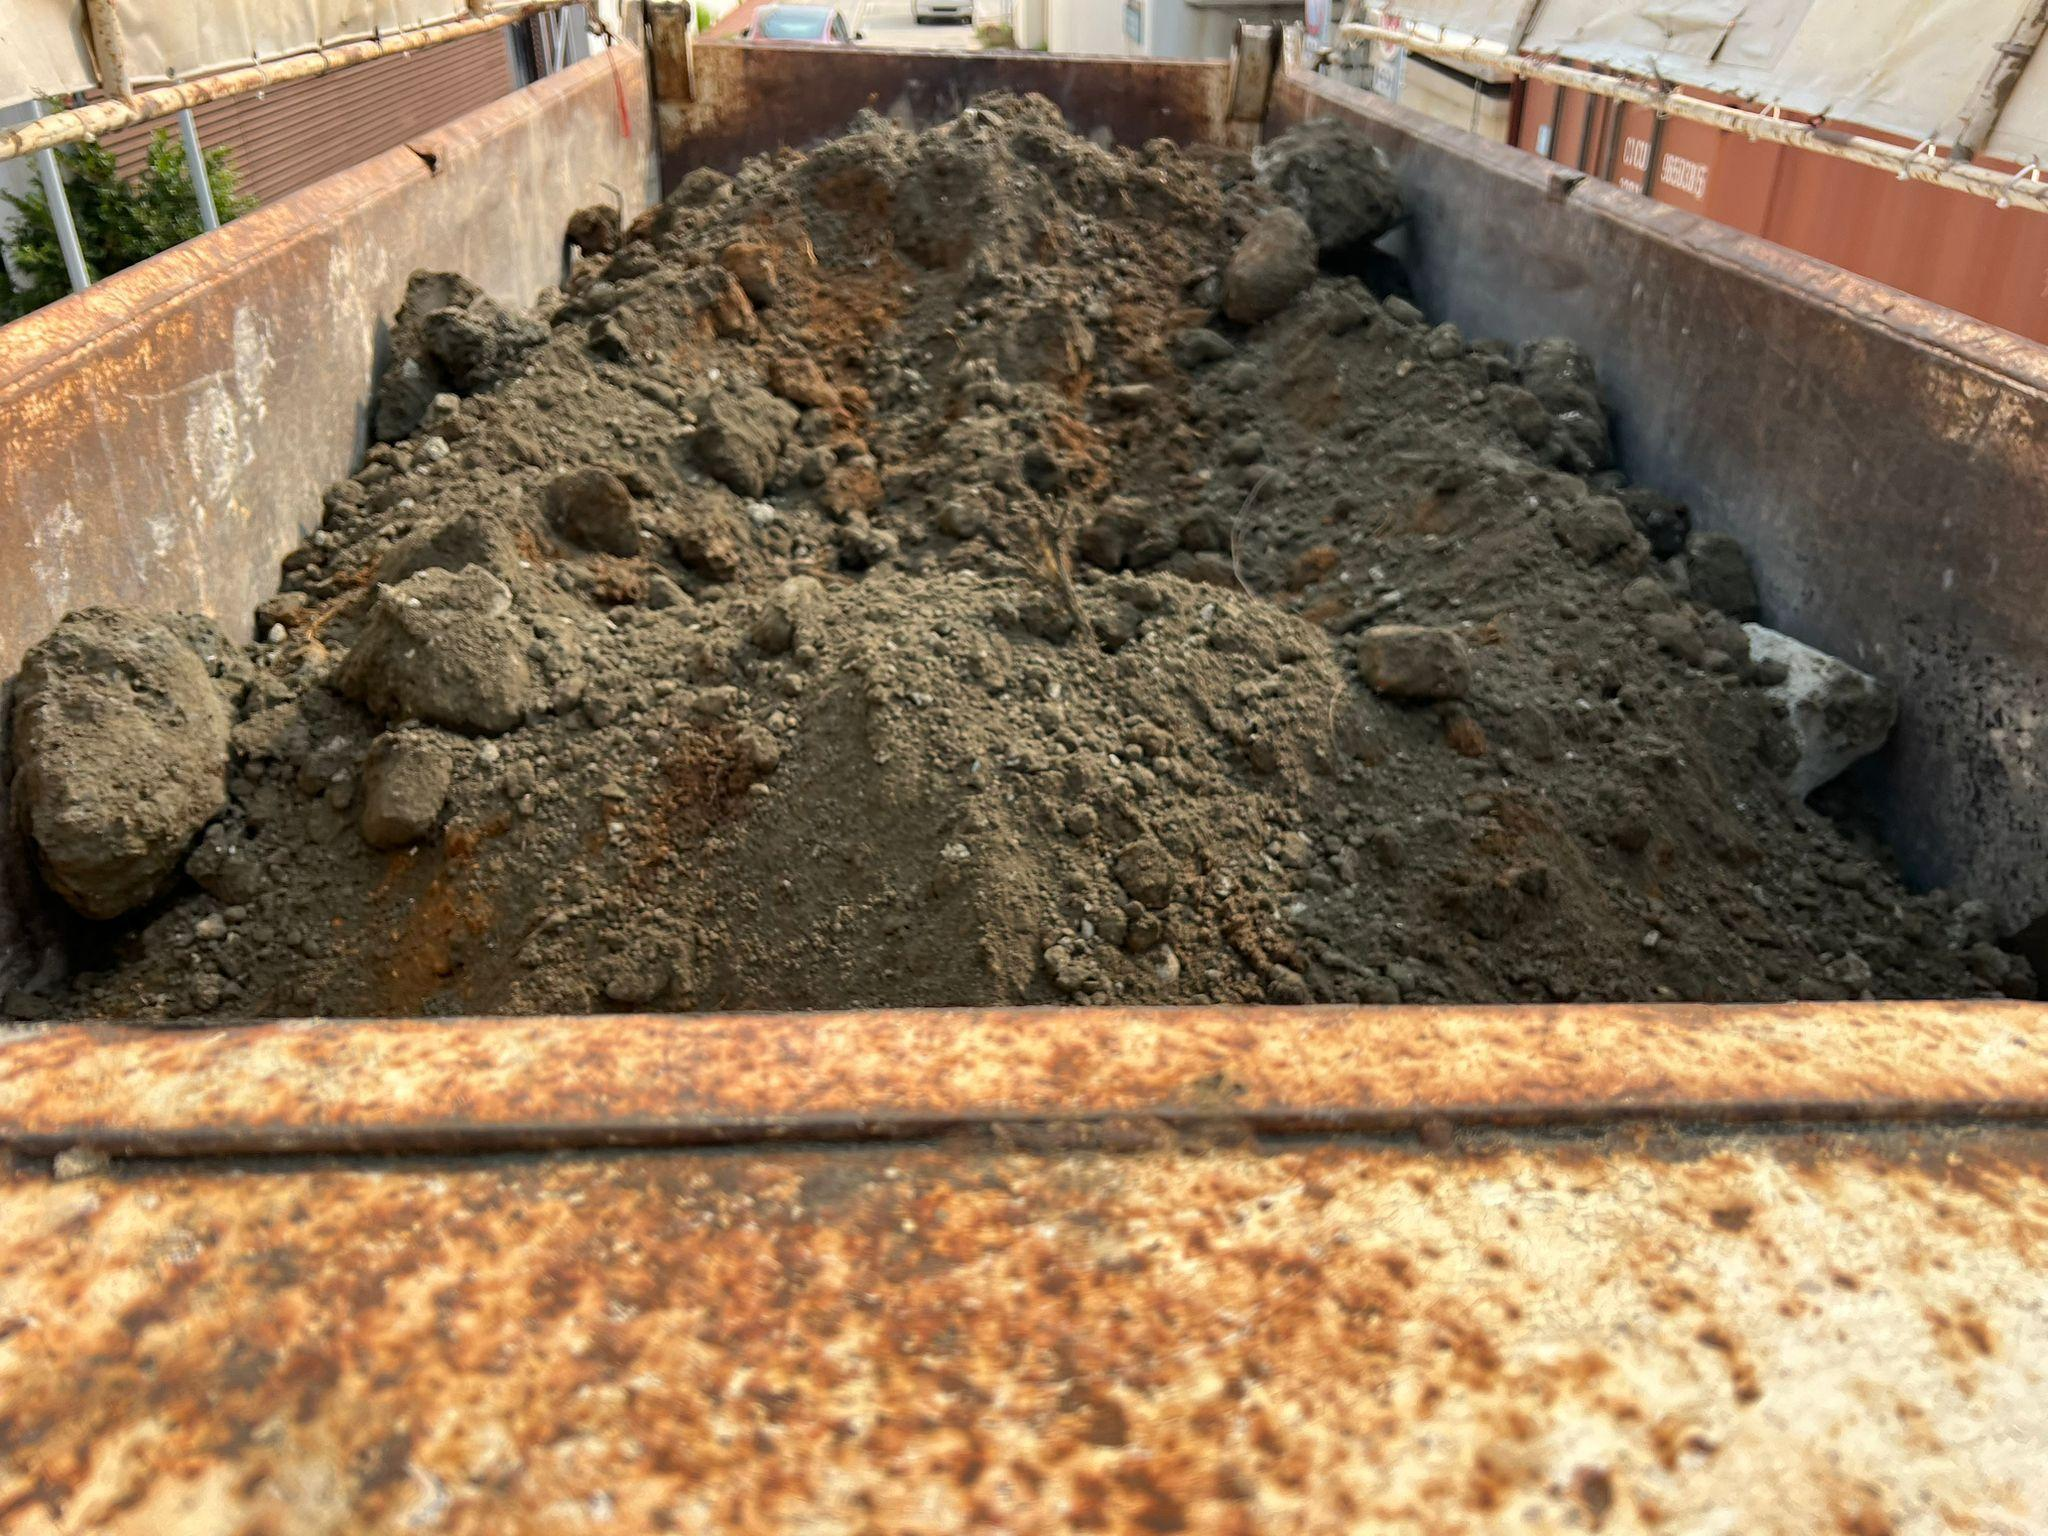wet: (13, 108, 1963, 1025)
